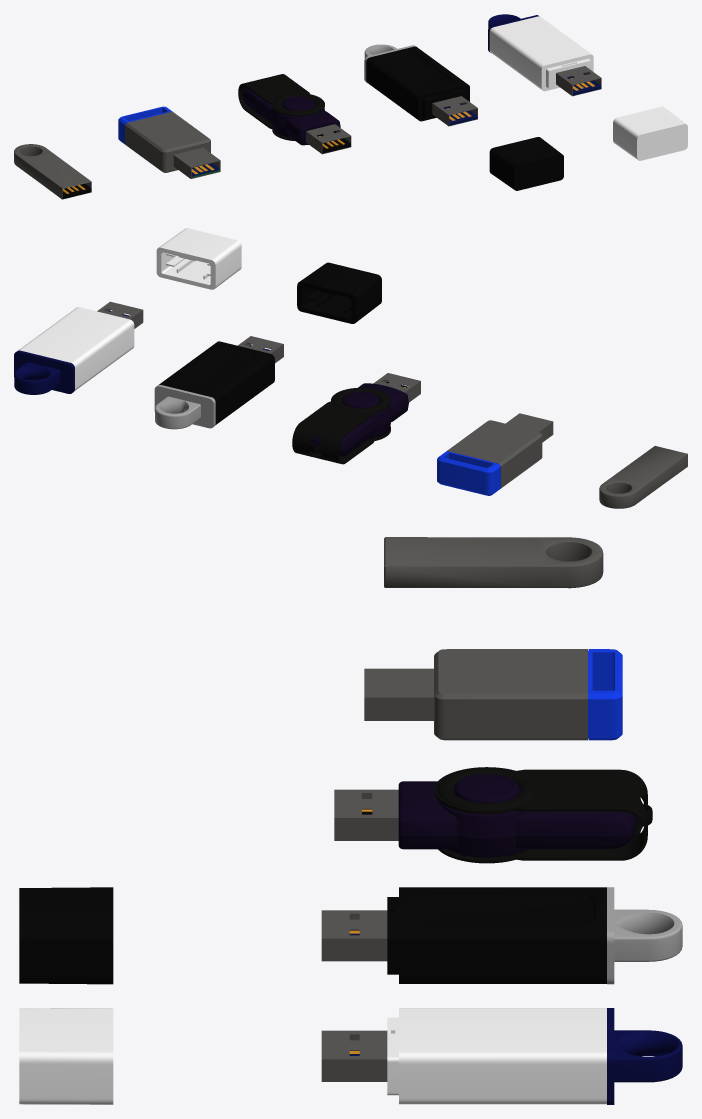
Rendered from Pendrives.fbx.
3 renders of one model, top to bottom at view 1: azimuth 30°, elevation 25°; view 2: azimuth 150°, elevation 25°; view 3: azimuth 270°, elevation 25°, orthographic. The views are drawn at different scales.
Visible parts, largest first — view 1: Pendrive Exodia, Pendrive DT G4, DT 50, Cylinder002, Tapa DT G4, Tapa Exodia, DT SE9, Tapa DT 101 G2; view 2: Pendrive Exodia, Pendrive DT G4, DT 50, Tapa DT G4, Tapa Exodia, Tapa DT 101 G2, DT SE9, Cylinder002; view 3: Pendrive DT G4, Pendrive Exodia, DT 50, Cylinder002, DT SE9, Tapa DT 101 G2, Tapa DT G4, Tapa Exodia.
Boxes of the visible parts, x1,y1,x2,y2 form: Pendrive Exodia: [364, 44, 477, 126]; Pendrive DT G4: [488, 14, 601, 96]; DT 50: [118, 106, 220, 178]; Cylinder002: [242, 88, 351, 154]; Tapa DT G4: [613, 106, 687, 160]; Tapa Exodia: [489, 137, 563, 190]; DT SE9: [14, 144, 91, 199]; Tapa DT 101 G2: [238, 74, 324, 140]; Pendrive Exodia: [154, 336, 283, 429]; Pendrive DT G4: [14, 301, 143, 394]; DT 50: [437, 413, 553, 495]; Tapa DT G4: [156, 228, 241, 289]; Tapa Exodia: [297, 262, 381, 323]; Tapa DT 101 G2: [292, 387, 390, 464]; DT SE9: [599, 446, 687, 508]; Cylinder002: [310, 373, 420, 456]; Pendrive DT G4: [321, 1008, 682, 1104]; Pendrive Exodia: [321, 887, 682, 984]; DT 50: [364, 649, 622, 740]; Cylinder002: [334, 773, 637, 857]; DT SE9: [384, 537, 603, 588]; Tapa DT 101 G2: [434, 767, 652, 863]; Tapa DT G4: [19, 1008, 113, 1104]; Tapa Exodia: [19, 887, 113, 984].
Bounding box in the file's own units: 8.52 × 0.4761 × 4.58.
